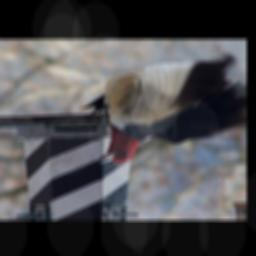Woodpecker: (84, 58, 246, 170)
